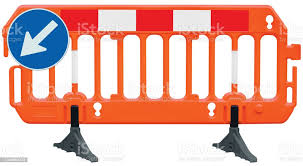obstacle: (1, 1, 302, 166)
